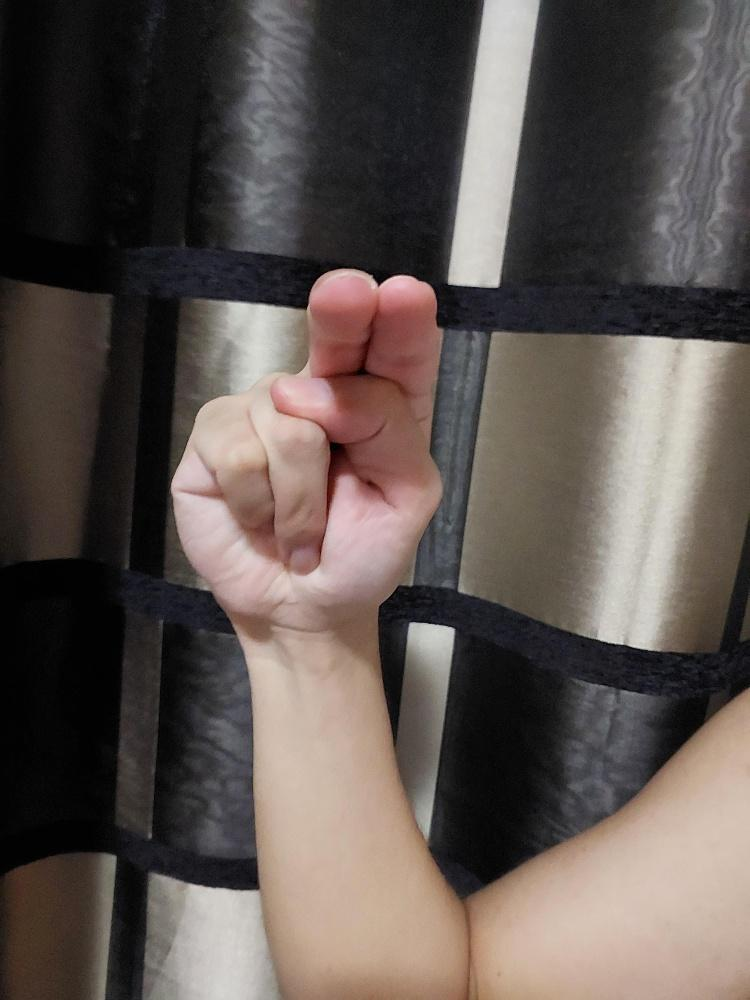n: (166, 264, 446, 630)
